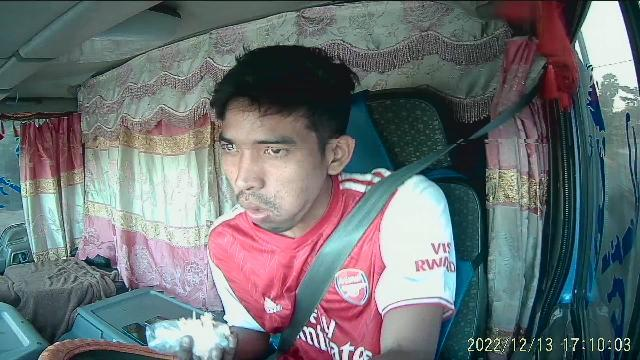SafeDriving: (254, 138, 295, 161), (213, 135, 246, 158)
Seatbelt: (277, 147, 455, 353)
